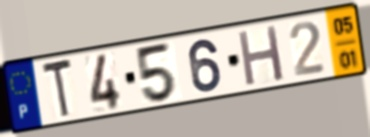2: (287, 19, 325, 78)
4: (87, 51, 124, 112)
5: (134, 39, 179, 106)
6: (186, 36, 224, 94)
H: (235, 23, 287, 89)
T: (40, 55, 75, 122)
